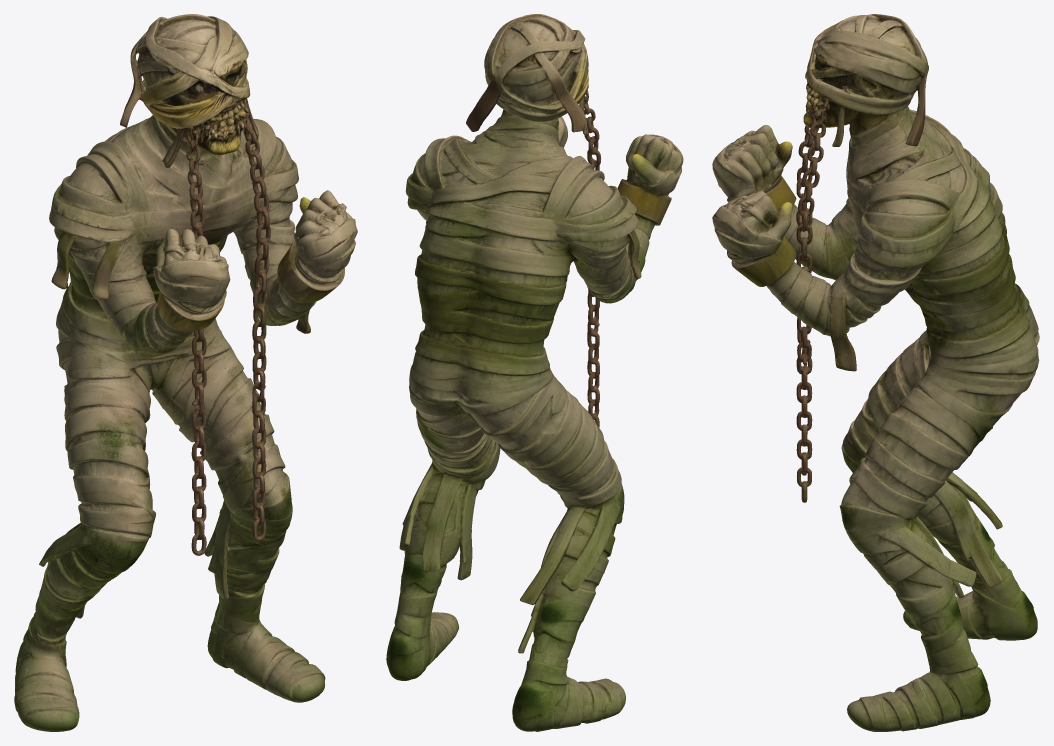
The model's file is eddie.glb.
The picture shows the model from 3 angles, left to right: view 1: azimuth 30°, elevation 25°; view 2: azimuth 150°, elevation 25°; view 3: azimuth 270°, elevation 25°; orthographic projection. The views are drawn at different scales.
Parts seen in each view (by area): view 1: mesh_0; view 2: mesh_0; view 3: mesh_0.
Boxes of the visible parts, left/top/right/bottom form: mesh_0: left=14, top=14, right=357, bottom=731; mesh_0: left=386, top=14, right=683, bottom=731; mesh_0: left=712, top=14, right=1039, bottom=731.
Bounding box in the file's own units: 0.7486 × 1.9 × 0.8578.
1 material, 1 textured.
